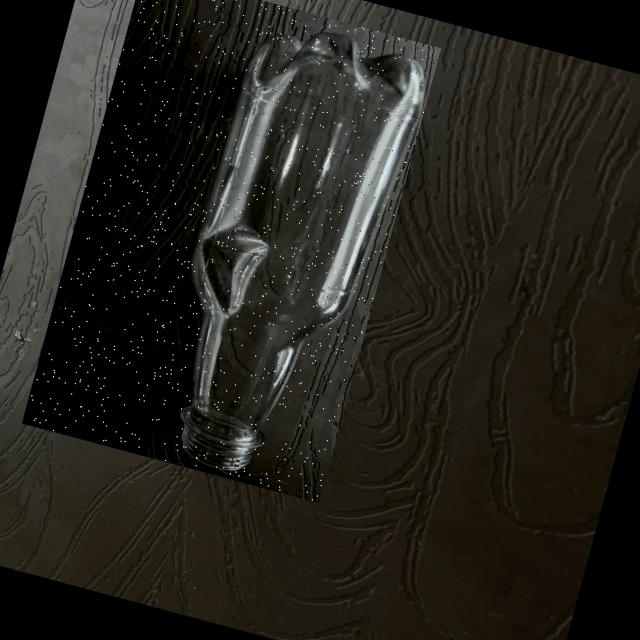PET_ClearBottle: (21, 0, 440, 503)
